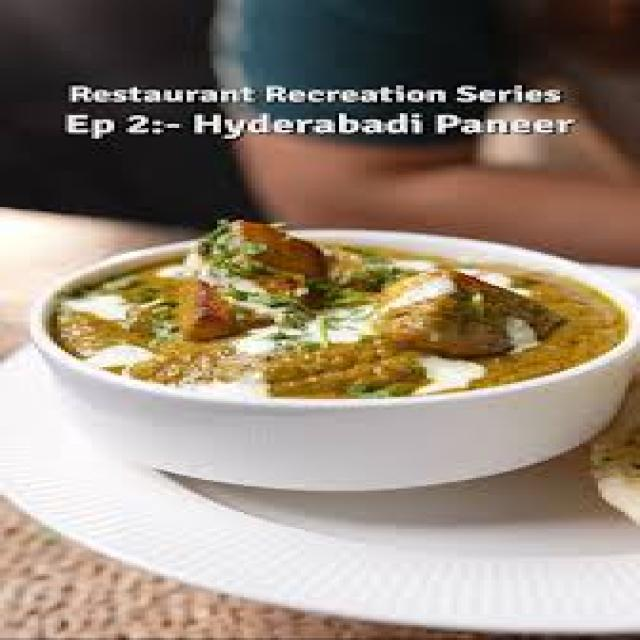POHA: (46, 218, 602, 395)
